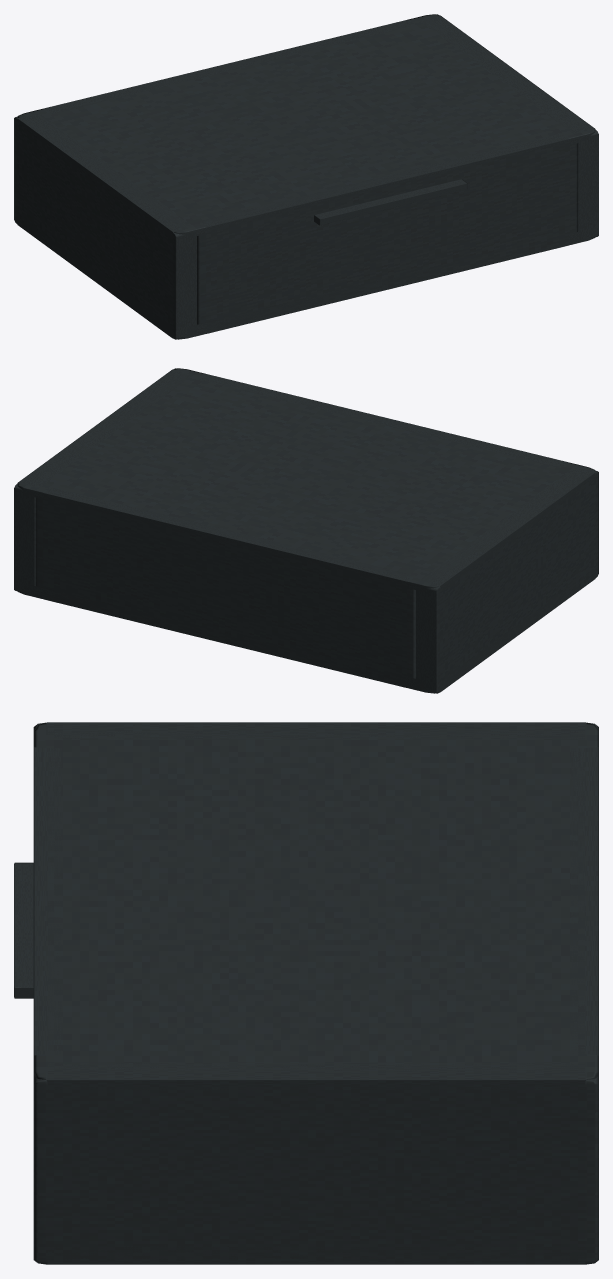
File: sockets.glb
3 views of the same model, one above another, from view 1: azimuth 30°, elevation 25°; view 2: azimuth 150°, elevation 25°; view 3: azimuth 270°, elevation 25° (orthographic). The views are drawn at different scales.
Parts seen in each view (by area): view 1: lid, edge (×2), side (×2), bottom, grip; view 2: lid, edge (×2), side (×2), bottom; view 3: lid, side (×2), edge (×2), bottom, grip.
Boxes of the visible parts, x1,y1,x2,y2 form: lid: (17, 14, 595, 237); edge (×2): (43, 20, 577, 333); side (×2): (14, 14, 598, 339); bottom: (17, 214, 595, 339); grip: (314, 179, 467, 225); lid: (17, 368, 595, 591); edge (×2): (35, 374, 569, 687); side (×2): (14, 368, 598, 693); bottom: (17, 570, 595, 693); lid: (33, 723, 598, 1090); side (×2): (33, 722, 598, 1264); edge (×2): (34, 747, 598, 1055); bottom: (47, 1245, 585, 1264); grip: (14, 862, 33, 998).
Size of the model in its own units: 0.27 by 0.065 by 0.1863.
Materials: 1 (1 with a texture image).
